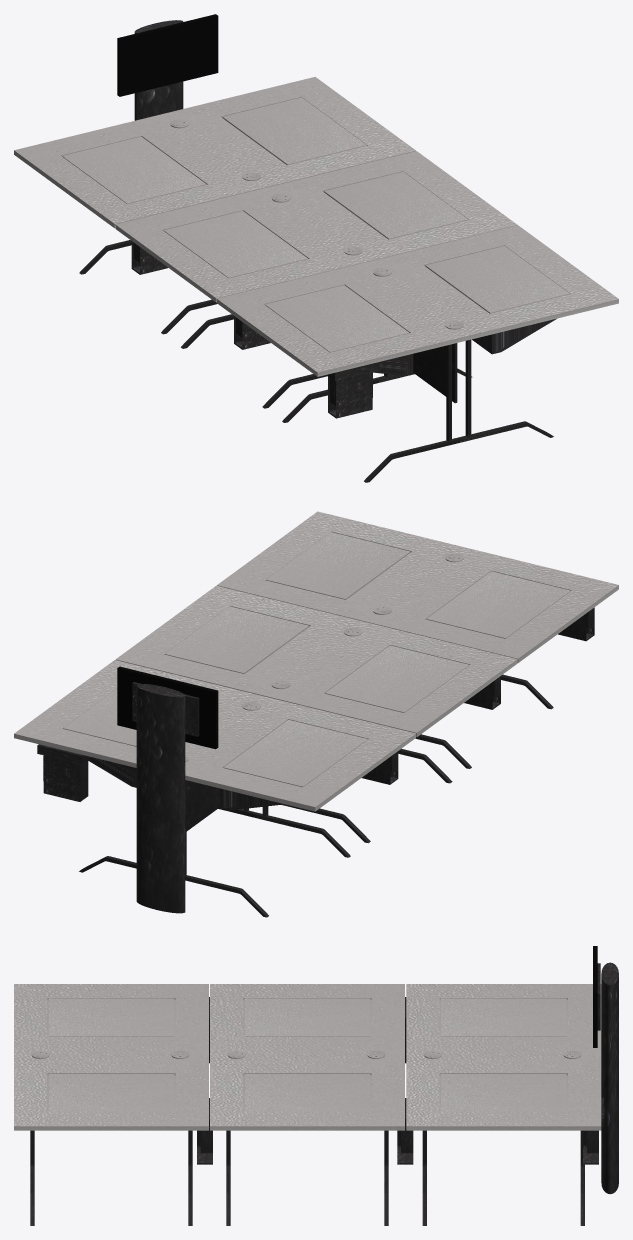
Rendered from 3computer_desk.fbx.
3 views of the same model, one above another, from view 1: azimuth 30°, elevation 25°; view 2: azimuth 150°, elevation 25°; view 3: azimuth 270°, elevation 25° (orthographic). The views are drawn at different scales.
Parts seen in each view (by area): view 1: computer_desk_top2, computer_desk_top, computer_desk_top1, monitor, laptop4, monitor_arm1, middle_board2, leg16, under__laptop5, laptop3, leg12, laptop5; view 2: computer_desk_top1, computer_desk_top2, computer_desk_top, monitor_arm1, monitor, laptop1, middle_board, leg2, monitor_arm2, leg5, under__laptop, laptop3 (+3 smaller); view 3: computer_desk_top1, computer_desk_top2, computer_desk_top, monitor_arm1, laptop, laptop1, laptop2, monitor.
Boxes of the visible parts, left/top/right/bottom form: computer_desk_top2: left=217, top=225, right=618, bottom=376; computer_desk_top: left=14, top=77, right=415, bottom=228; computer_desk_top1: left=115, top=151, right=517, bottom=302; monitor: left=117, top=14, right=218, bottom=96; laptop4: left=327, top=362, right=379, bottom=418; monitor_arm1: left=134, top=20, right=183, bottom=120; middle_board2: left=413, top=343, right=457, bottom=403; leg16: left=364, top=421, right=553, bottom=482; under__laptop5: left=472, top=318, right=556, bottom=354; laptop3: left=131, top=241, right=167, bottom=274; leg12: left=465, top=339, right=471, bottom=436; laptop5: left=234, top=316, right=270, bottom=349; computer_desk_top1: left=115, top=585, right=517, bottom=737; computer_desk_top2: left=217, top=511, right=618, bottom=662; computer_desk_top: left=14, top=660, right=415, bottom=811; monitor_arm1: left=136, top=684, right=185, bottom=913; monitor: left=117, top=666, right=218, bottom=749; laptop1: left=37, top=744, right=91, bottom=801; middle_board: left=186, top=780, right=219, bottom=831; leg2: left=79, top=856, right=268, bottom=917; monitor_arm2: left=132, top=682, right=199, bottom=736; leg5: left=218, top=807, right=350, bottom=857; under__laptop: left=220, top=788, right=283, bottom=810; laptop3: left=362, top=751, right=398, bottom=784; computer_desk_top1: left=210, top=984, right=404, bottom=1130; computer_desk_top2: left=14, top=984, right=208, bottom=1130; computer_desk_top: left=406, top=984, right=601, bottom=1130; monitor_arm1: left=601, top=962, right=618, bottom=1194; laptop: left=397, top=1098, right=413, bottom=1164; laptop1: left=583, top=1098, right=603, bottom=1164; laptop2: left=197, top=1098, right=212, bottom=1164; monitor: left=593, top=946, right=597, bottom=1047.
Bounding box in the file's own units: 12.49 × 8.77 × 22.46.
